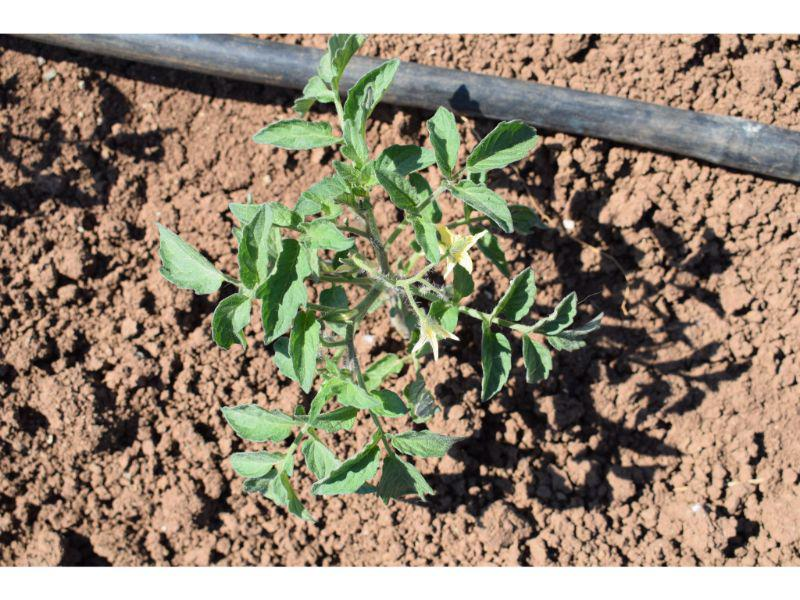tomato: (157, 32, 604, 520)
